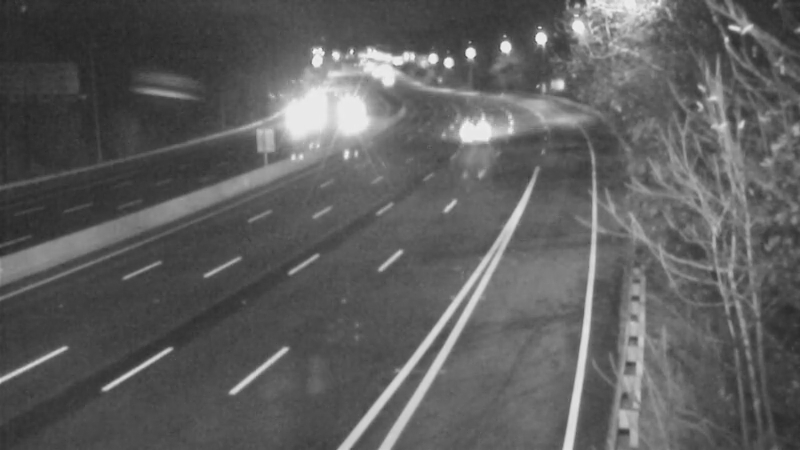vehicle: (444, 100, 494, 150), (273, 88, 323, 138), (321, 90, 371, 140)
